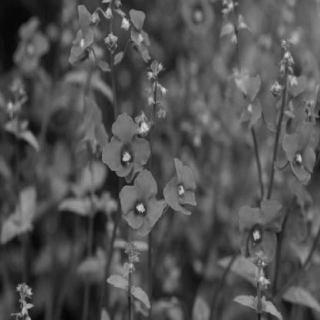other: (236, 72, 264, 132)
